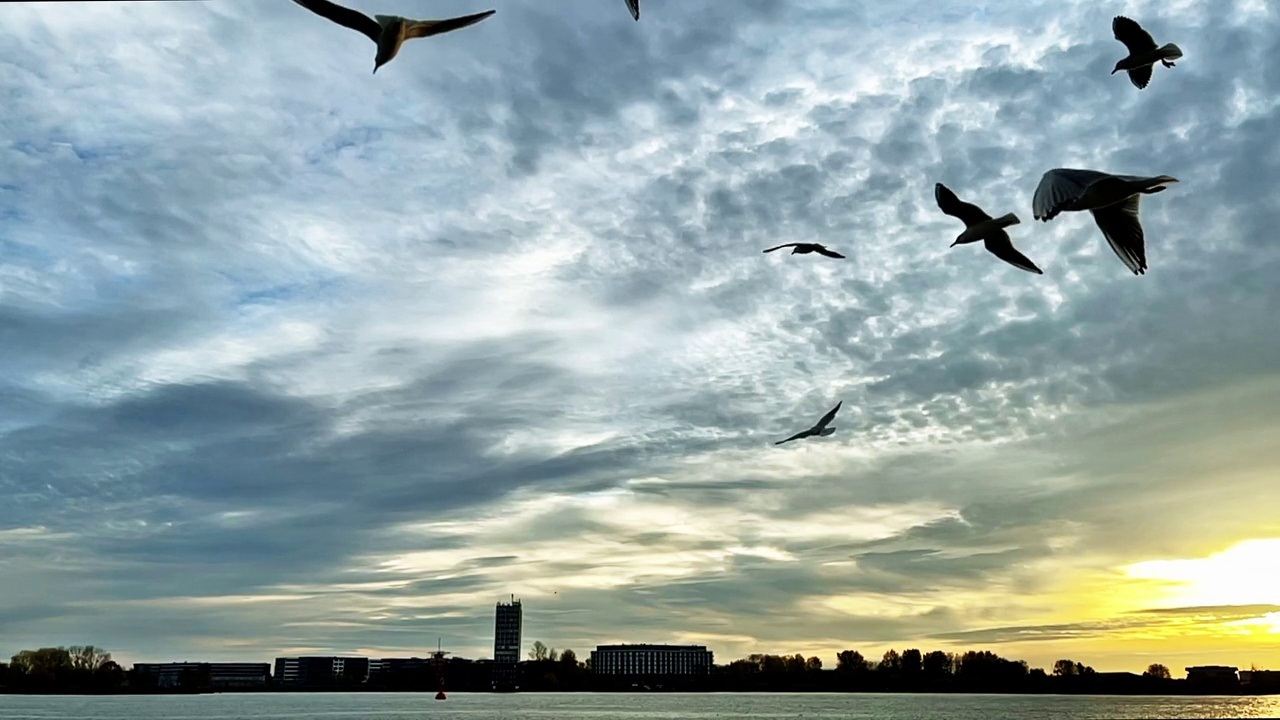bird: (1030, 164, 1178, 273), (292, 0, 496, 73), (932, 180, 1044, 274), (1109, 12, 1182, 90), (774, 400, 843, 445), (760, 239, 844, 259)
